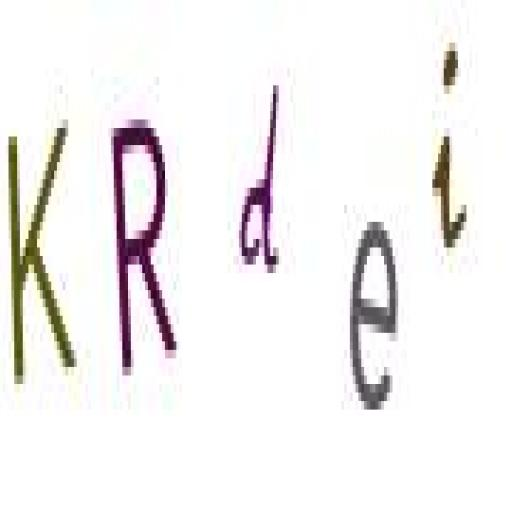K: (5, 105, 84, 408)
R: (105, 102, 184, 388)
d: (236, 52, 285, 307)
e: (344, 198, 406, 432)
i: (425, 30, 477, 278)
